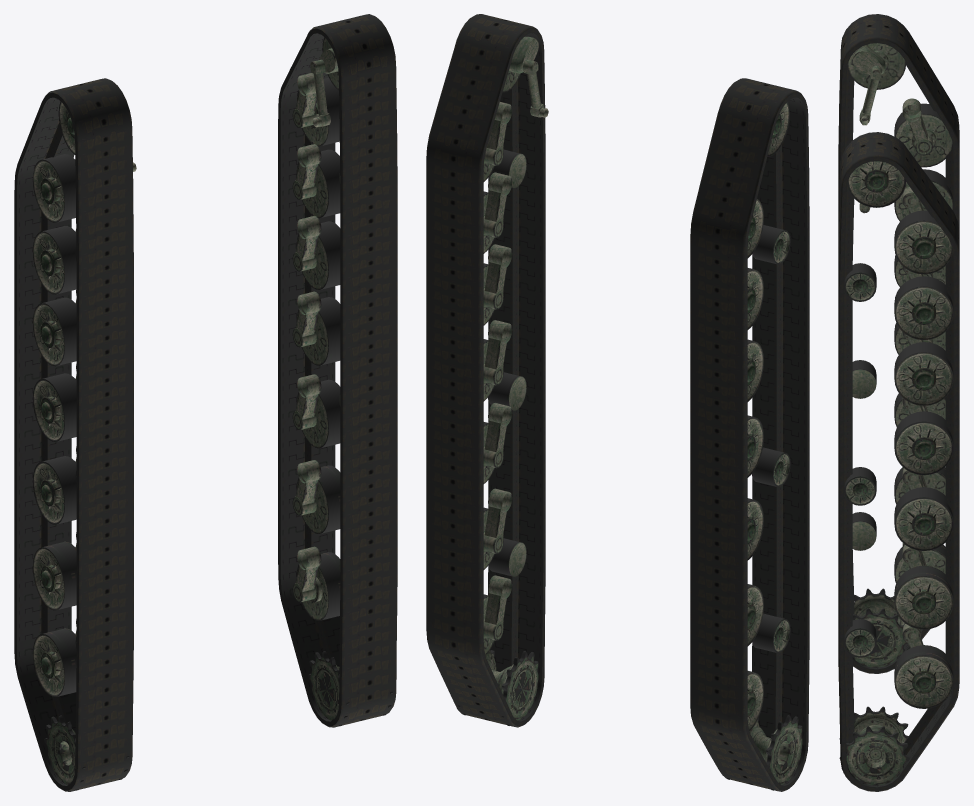
File: Chassis.glb
3 views of the same model, side by side, from view 1: azimuth 30°, elevation 25°; view 2: azimuth 150°, elevation 25°; view 3: azimuth 270°, elevation 25° (orthographic). The views are drawn at different scales.
Parts seen in each view (by area): view 1: set_0_group_0, set_1_group_0, set_3_group_0, set_2_group_0; view 2: set_0_group_0, set_1_group_0, set_3_group_0, set_2_group_0; view 3: set_3_group_0, set_1_group_0, set_2_group_0, set_0_group_0.
Boxes of the visible parts, <box> form: set_0_group_0: <box>14,78,133,791</box>; set_1_group_0: <box>278,14,397,727</box>; set_3_group_0: <box>292,37,393,726</box>; set_2_group_0: <box>32,101,136,790</box>; set_0_group_0: <box>690,78,809,791</box>; set_1_group_0: <box>426,14,545,727</box>; set_3_group_0: <box>458,36,548,725</box>; set_2_group_0: <box>727,101,802,790</box>; set_3_group_0: <box>839,161,953,785</box>; set_1_group_0: <box>838,132,959,791</box>; set_2_group_0: <box>847,43,953,667</box>; set_0_group_0: <box>838,14,959,673</box>.
Size of the model in its own units: 3.35 by 6.98 by 1.21.
4 materials, 4 textured.
